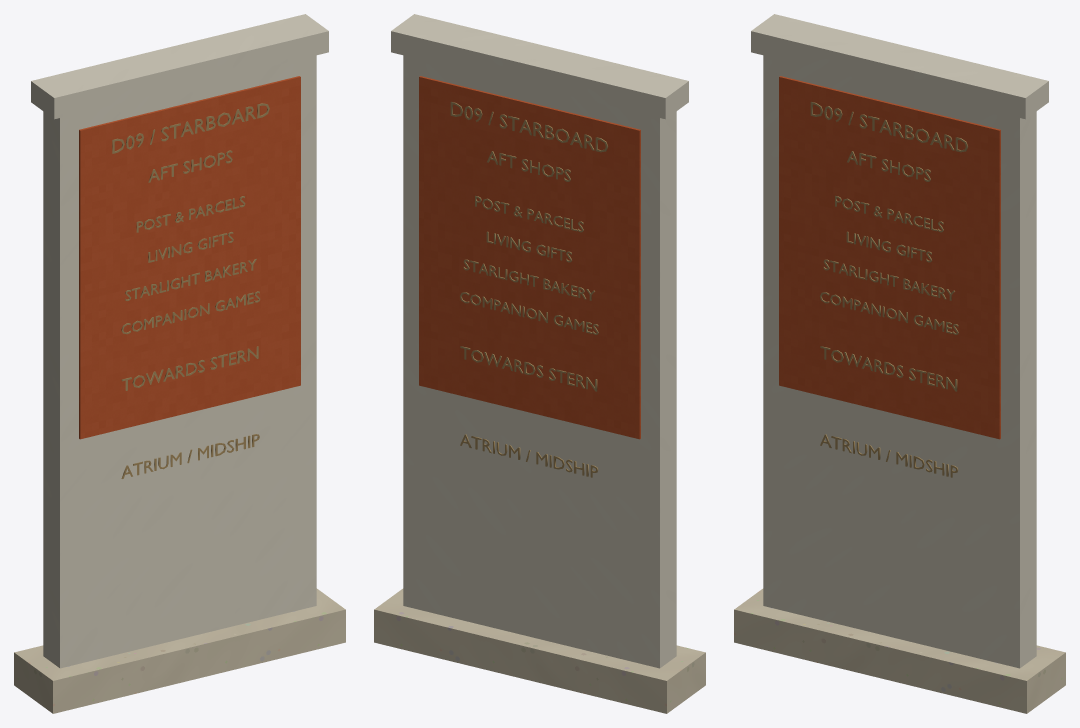
The model's file is guide_starboard_aft_r003.glb.
The picture shows the model from 3 angles, left to right: view 1: azimuth 30°, elevation 25°; view 2: azimuth 150°, elevation 25°; view 3: azimuth 330°, elevation 25°; orthographic projection.
Parts seen in each view (by area): view 1: profiled_column, recessed_orange_directory, weighted_plinth, crown, heading, atrium, orientation, venue_3, venue_2, venue_0, district, venue_1; view 2: profiled_column, recessed_orange_directory_back, weighted_plinth, crown, heading_back, orientation_back, atrium_back, venue_3_back, venue_2_back, venue_0_back, venue_1_back, district_back; view 3: profiled_column, recessed_orange_directory, weighted_plinth, crown, heading, orientation, atrium, venue_3, venue_2, venue_0, venue_1, district.
Boxes of the visible parts, x1,y1,x2,y2 form: profiled_column: (43,55,316,668); recessed_orange_directory: (79,76,300,439); weighted_plinth: (14,588,345,713); crown: (31,14,328,119); heading: (112,103,269,153); atrium: (121,434,259,478); orientation: (121,346,258,390); venue_3: (121,291,260,334); venue_2: (125,258,256,300); venue_0: (136,196,245,232); district: (148,150,232,182); venue_1: (148,232,233,262); profiled_column: (403,55,676,668); recessed_orange_directory_back: (419,76,640,439); weighted_plinth: (374,588,705,713); crown: (391,14,688,119); heading_back: (450,101,607,152); orientation_back: (460,346,597,391); atrium_back: (460,434,598,477); venue_3_back: (460,292,598,334); venue_2_back: (463,259,594,300); venue_0_back: (475,195,583,232); venue_1_back: (486,231,571,262); district_back: (487,151,570,181); profiled_column: (763,55,1036,668); recessed_orange_directory: (779,76,1000,439); weighted_plinth: (734,588,1065,713); crown: (751,14,1048,119); heading: (810,101,967,152); orientation: (820,346,957,391); atrium: (820,434,958,477); venue_3: (820,292,958,334); venue_2: (823,259,954,300); venue_0: (835,195,943,232); venue_1: (846,231,931,262); district: (847,151,930,181).
Size of the model in its own units: 1.3 by 2.58 by 0.3.
4 materials, 4 textured.
